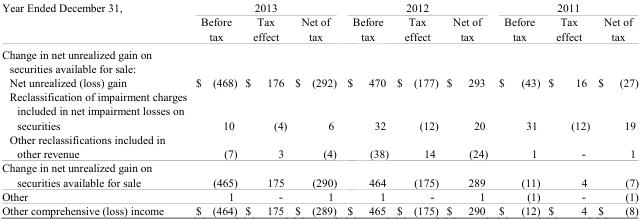table: (1, 1, 637, 216)
table column: (1, 1, 178, 216), (178, 1, 240, 216), (290, 1, 341, 216), (341, 1, 392, 216), (441, 1, 492, 216), (492, 1, 543, 216), (240, 1, 290, 216), (543, 1, 593, 216), (392, 1, 441, 216), (593, 1, 637, 216)
table column header: (1, 1, 637, 44)
table projected row header: (1, 44, 637, 60), (1, 60, 637, 75), (1, 89, 637, 103), (1, 103, 637, 117), (1, 131, 637, 145), (1, 160, 637, 174)
table row: (1, 14, 637, 44), (1, 44, 637, 60), (1, 60, 637, 75), (1, 145, 637, 160), (1, 188, 637, 203), (1, 75, 637, 89), (1, 89, 637, 103), (1, 103, 637, 117), (1, 117, 637, 131), (1, 131, 637, 145), (1, 160, 637, 174), (1, 174, 637, 188), (1, 1, 637, 14), (1, 203, 637, 216)
table spanning cell: (1, 1, 178, 44), (178, 1, 341, 14), (341, 1, 492, 14), (492, 1, 637, 14)
